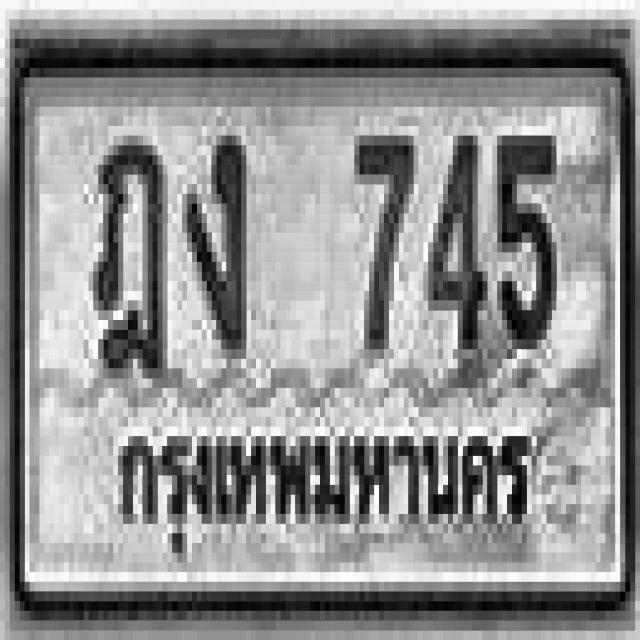license-plate: (14, 44, 630, 606)
